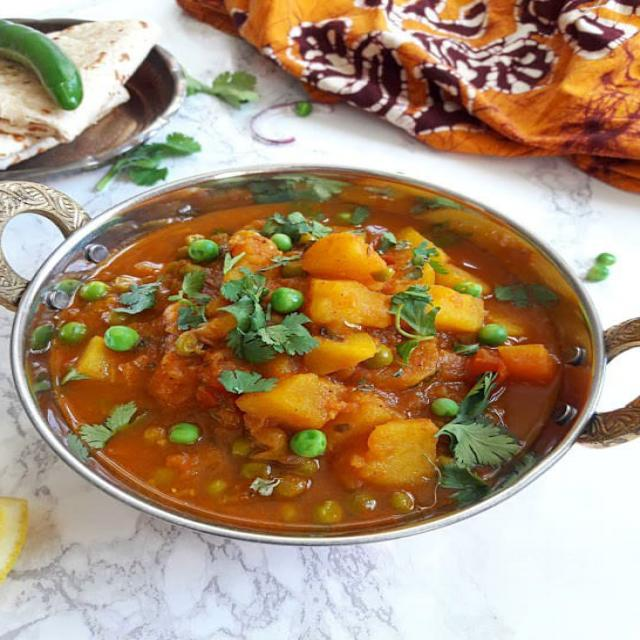Aloo Matar: (60, 202, 545, 513)
